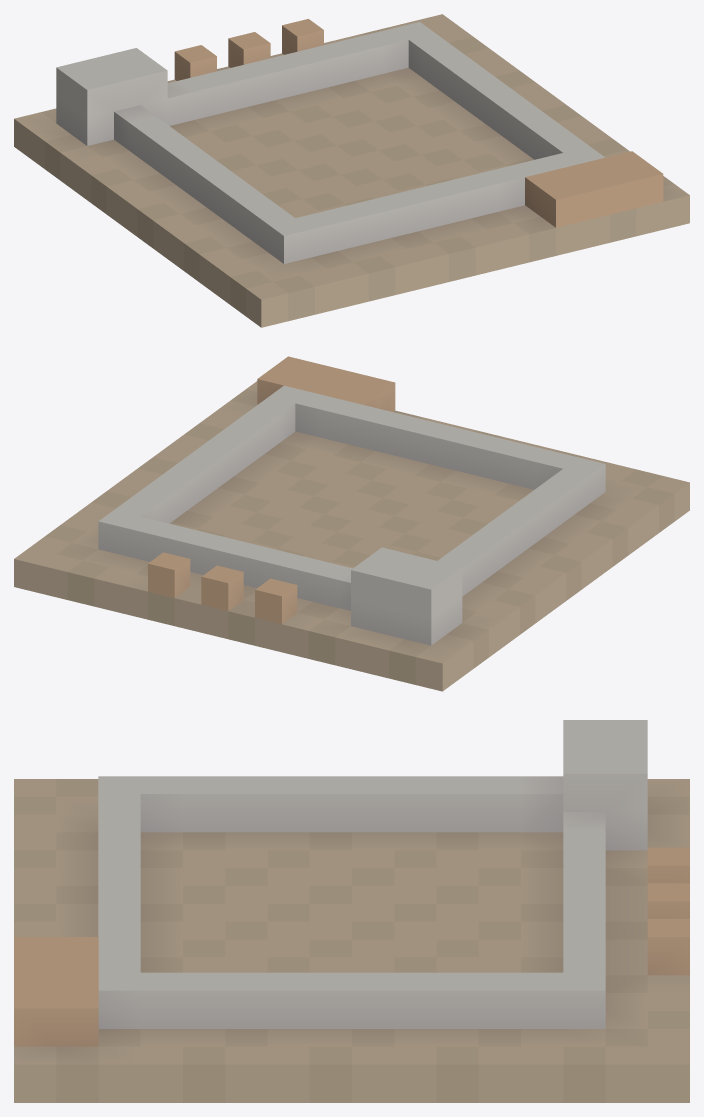
Rendered from life_stage.v0.glb.
3 renders of one model, top to bottom at view 1: azimuth 30°, elevation 25°; view 2: azimuth 150°, elevation 25°; view 3: azimuth 270°, elevation 25°, orthographic. The views are drawn at different scales.
Visible parts, largest first — view 1: life_stage; view 2: life_stage; view 3: life_stage.
Boxes of the visible parts, box(x1,y1,x2,y2) form: life_stage: box(14, 14, 689, 327); life_stage: box(14, 356, 689, 691); life_stage: box(14, 720, 689, 1102).
Size of the model in its own units: 2 by 0.375 by 2.
